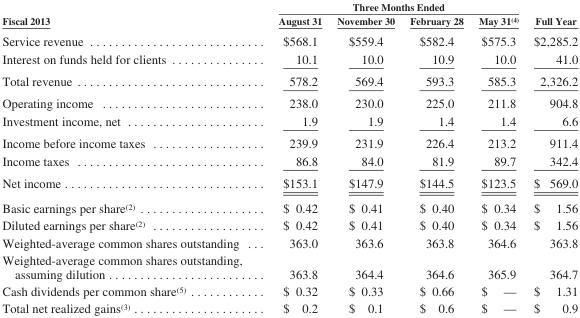table: (1, 0, 577, 315)
table column: (1, 0, 259, 315), (328, 0, 401, 315), (259, 0, 328, 315), (401, 0, 470, 315), (470, 0, 525, 315), (525, 0, 577, 315)
table column header: (1, 0, 577, 30)
table row: (1, 251, 577, 282), (1, 171, 577, 195), (1, 69, 577, 91), (1, 195, 577, 216), (1, 49, 577, 69), (1, 91, 577, 111), (1, 111, 577, 131), (1, 131, 577, 151), (1, 151, 577, 171), (1, 30, 577, 49), (1, 233, 577, 251), (1, 13, 577, 30), (1, 216, 577, 233), (1, 282, 577, 299), (1, 299, 577, 315), (1, 0, 577, 13)
table spanning cell: (1, 0, 259, 30), (259, 0, 525, 13), (525, 0, 577, 30)
